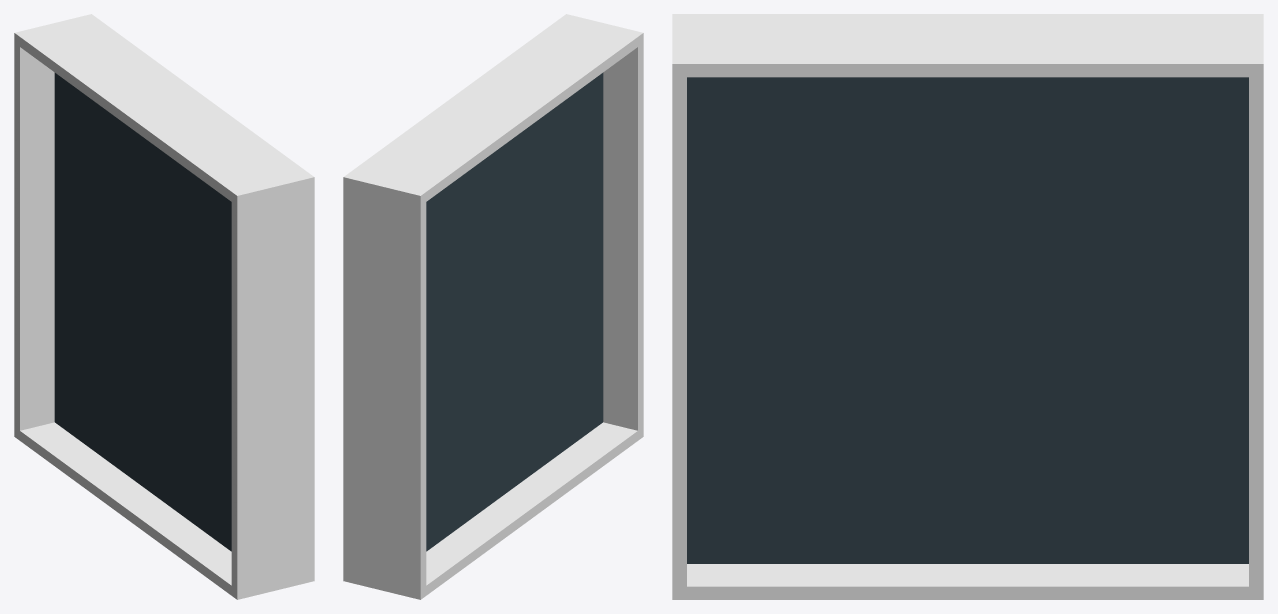
File: Janela1x1.fbx
3 renders of one model, left to right at view 1: azimuth 30°, elevation 25°; view 2: azimuth 150°, elevation 25°; view 3: azimuth 270°, elevation 25°, orthographic. The views are drawn at different scales.
Visible parts, largest first — view 1: Janela1x1; view 2: Janela1x1; view 3: Janela1x1.
Boxes of the visible parts, <box> form: Janela1x1: <box>14,14,314,599</box>; Janela1x1: <box>343,14,643,599</box>; Janela1x1: <box>672,14,1263,599</box>.
Size of the model in its own units: 20 by 100 by 100.
